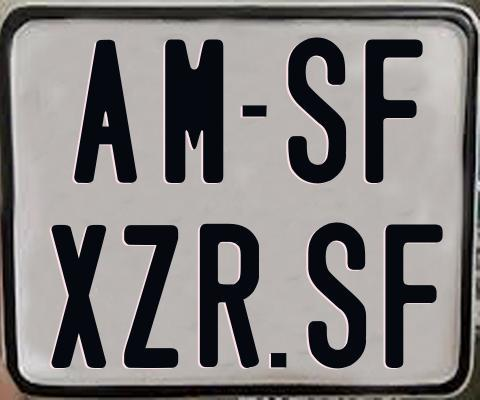A: (74, 40, 137, 186)
F: (365, 37, 428, 182), (385, 222, 448, 367)
M: (164, 37, 226, 183)
R: (198, 224, 259, 372)
S: (286, 35, 347, 185), (305, 219, 363, 366)
X: (48, 225, 107, 370)
Z: (122, 222, 179, 370)
